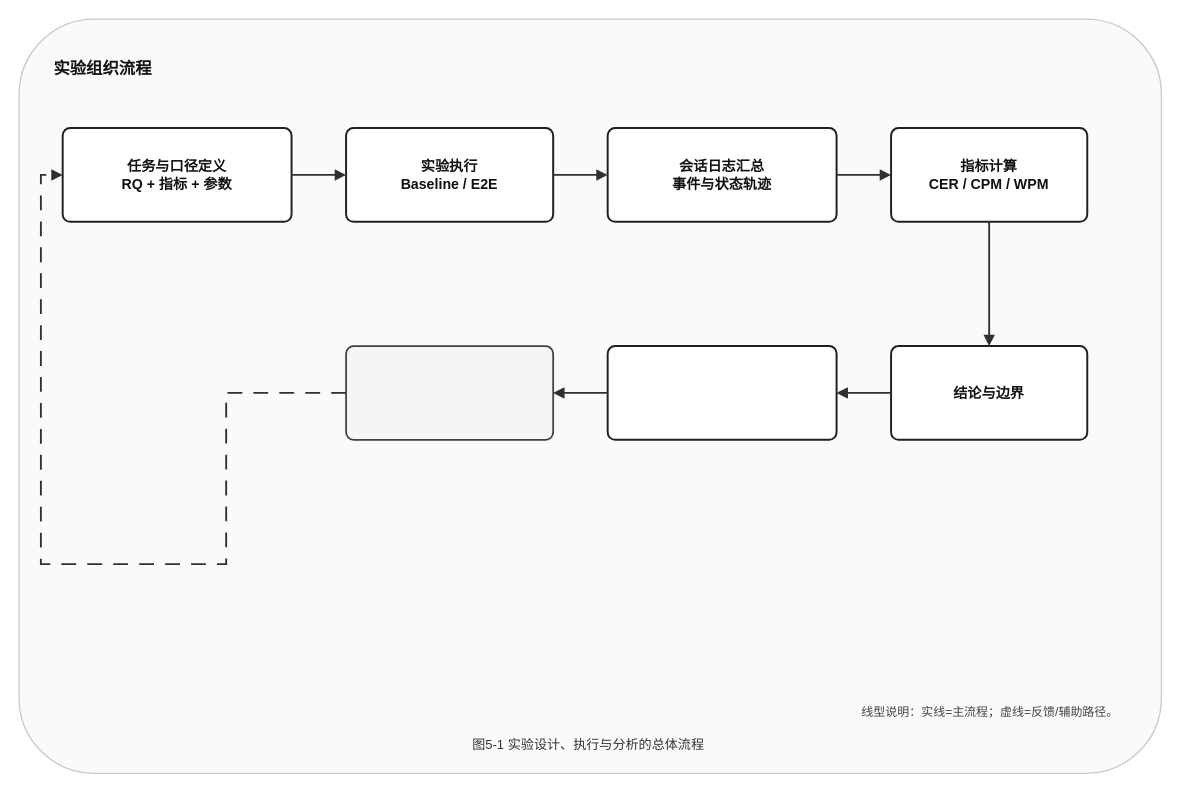
This 1182x794 diagram has some shape labels left out. Here are the shapes that lost their labels. From the top down, the centre of each, then its label:
At (x=449, y=392): "下一轮优化建议".
At (x=721, y=392): "结果分析 稳定性 / 消融 / 失败归因".
